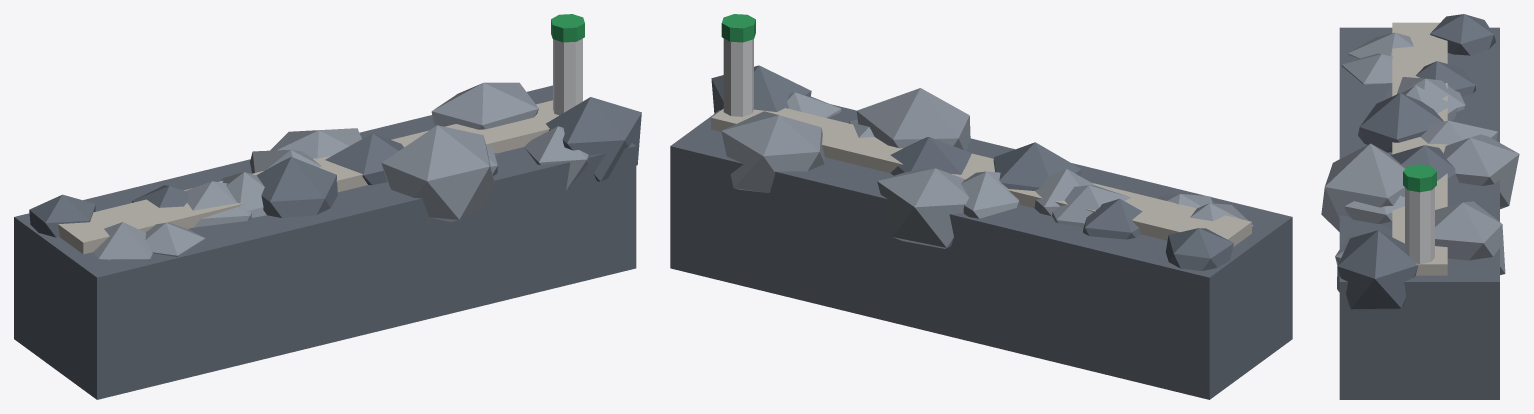
Rendered from breakwater.glb.
3 renders of one model, left to right at view 1: azimuth 30°, elevation 25°; view 2: azimuth 150°, elevation 25°; view 3: azimuth 270°, elevation 25°, orthographic. The views are drawn at different scales.
Visible parts, largest first — view 1: breakwater; view 2: breakwater; view 3: breakwater.
Boxes of the visible parts, box(x1,y1,x2,y2) form: breakwater: box(14, 14, 641, 399); breakwater: box(670, 14, 1292, 399); breakwater: box(1321, 14, 1519, 399).
Bounding box in the file's own units: 12.53 × 4.75 × 3.96.
